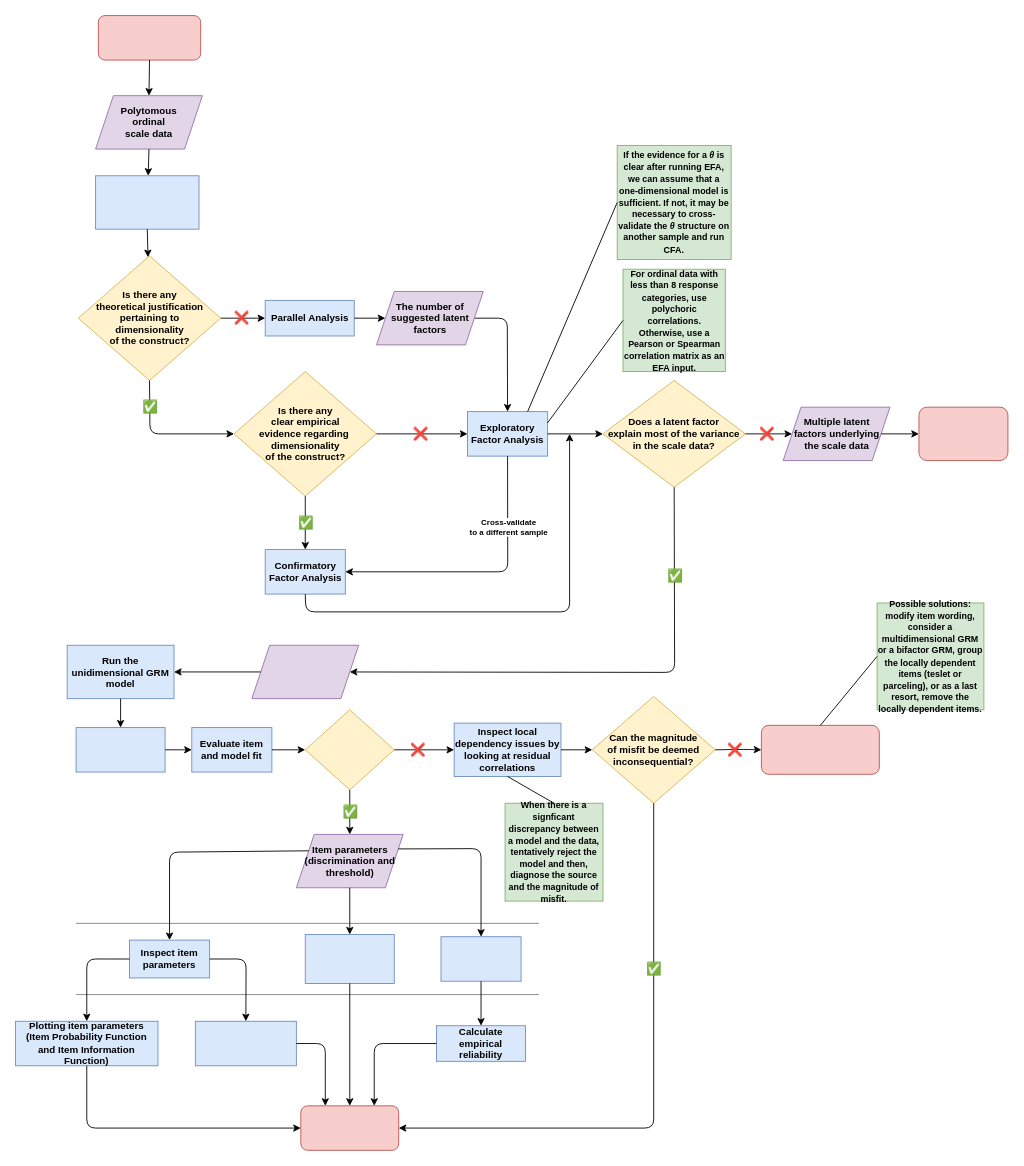
The diagram is 1024 pixels wide and 1166 high, and some of its shapes have lost their labels. The shapes that lost their labels are listed below. From the top down, each one's centre as x and y in pixels, then its label:
At pixel 149 37: "Data collection".
At pixel 147 202: "Test measurement precision at the item and person level".
At pixel 963 433: "Run the multidimensional GRM".
At pixel 305 671: "One θ underlying the scale data".
At pixel 120 749: "Specify and fit the model".
At pixel 349 749: "Does the model fit the data?".
At pixel 820 749: "Modify the scale and/or respecify the model".
At pixel 349 958: "Estimate and plot marginal reliability".
At pixel 480 958: "Calculate estimated θ (factor scores)".
At pixel 245 1043: "Plotting test parameters (Test Information Function)".
At pixel 349 1127: "Retain and interpret the model".
